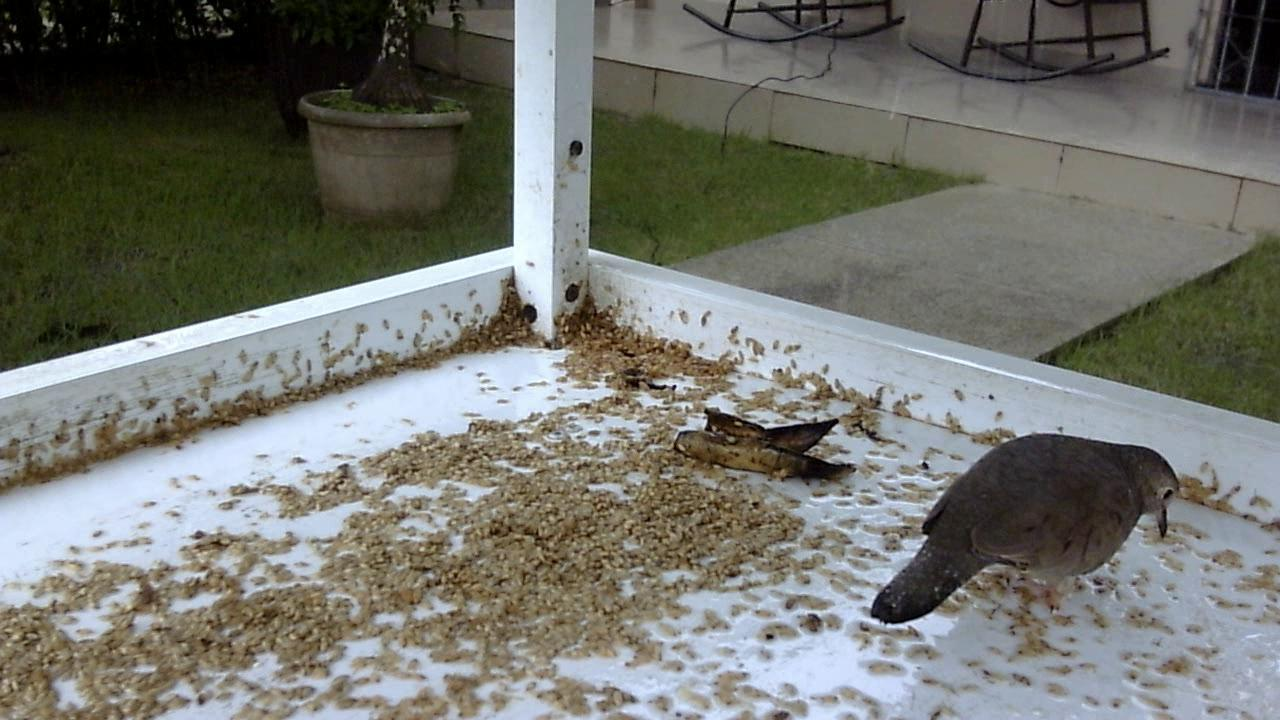rolinha: (857, 422, 1190, 633)
